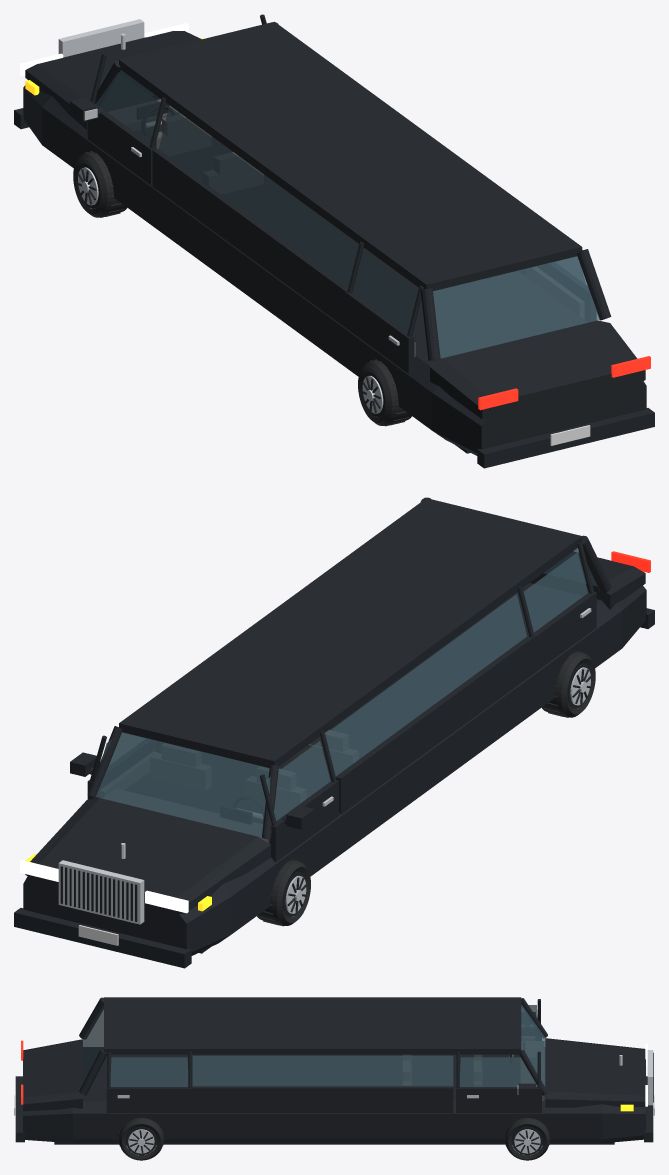
The model's file is luxury_limo.glb.
3 views of the same model, one above another, from view 1: azimuth 30°, elevation 25°; view 2: azimuth 150°, elevation 25°; view 3: azimuth 270°, elevation 25° (orthographic). The views are drawn at different scales.
Parts seen in each view (by area): view 1: Body, Door_FL, Door_RL, Door_RR, Wheel_FL, Wheel_RL; view 2: Body, Door_RL, Door_FL, Door_FR, Wheel_RL, Wheel_FL; view 3: Body, Door_RR, Door_FR, Wheel_FR, Wheel_RR, Door_FL.
Boxes of the visible parts, box(x1,y1,x2,y2) form: Body: box(14, 19, 654, 468); Door_FL: box(70, 53, 166, 184); Door_RL: box(345, 242, 423, 373); Door_RR: box(526, 257, 596, 321); Wheel_FL: box(73, 151, 127, 217); Wheel_RL: box(358, 359, 411, 426); Body: box(14, 497, 654, 968); Door_RL: box(517, 542, 596, 673); Door_FL: box(259, 731, 338, 862); Door_FR: box(70, 733, 156, 799); Wheel_RL: box(541, 651, 595, 717); Wheel_FL: box(257, 859, 310, 926); Body: box(14, 997, 654, 1144); Door_RR: box(106, 1052, 192, 1112); Door_FR: box(456, 1051, 541, 1112); Wheel_FR: box(504, 1118, 550, 1160); Wheel_RR: box(118, 1118, 164, 1160); Door_FL: box(521, 999, 541, 1040).
Size of what is drawn, in the model's own units: 2.57 by 1.64 by 9.06.
